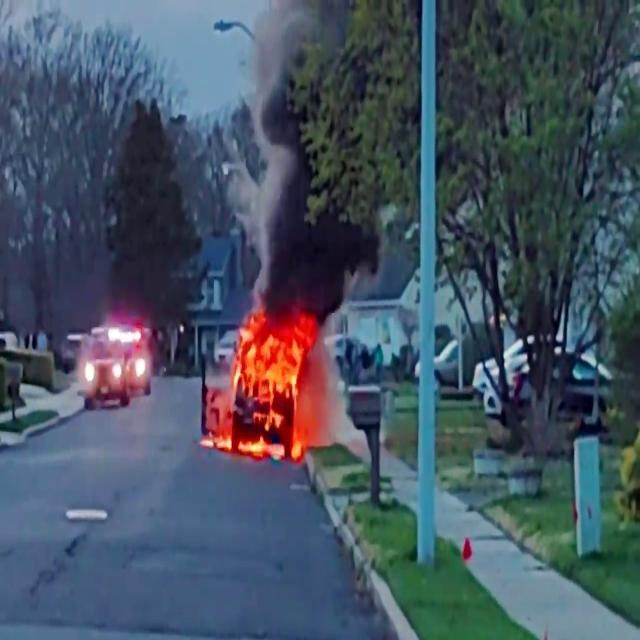Fire: (214, 308, 315, 458)
Smoke: (256, 99, 408, 313)
